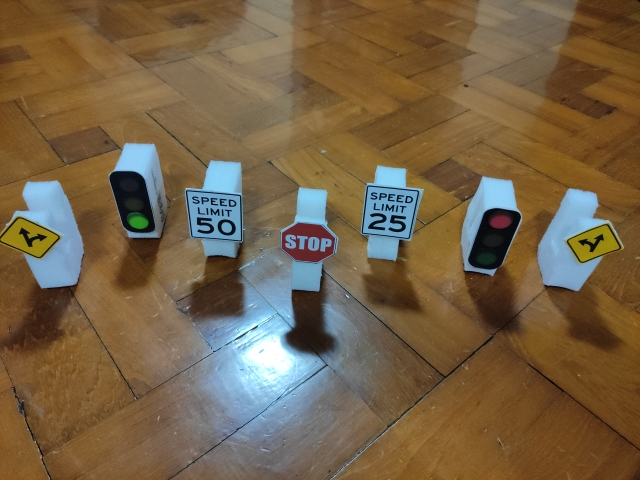Green Traffic Light: (108, 170, 156, 233)
Red Traffic Light: (468, 208, 522, 270)
Speed Limit 25: (361, 184, 422, 240)
Speed Limit 50: (184, 188, 244, 241)
Stop Sign: (281, 221, 339, 264)
Straight Or Left Sign: (565, 220, 623, 264)
Straight Or Right Sign: (1, 213, 62, 259)
